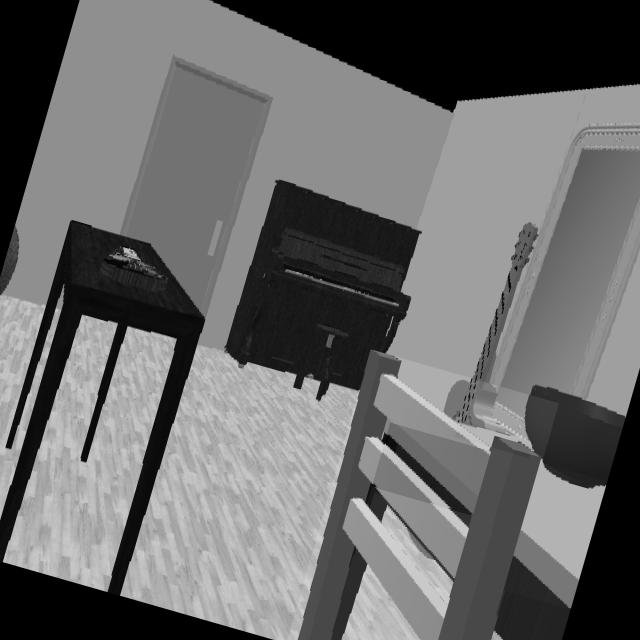chair: (298, 351, 541, 640)
table: (0, 220, 205, 595), (513, 462, 605, 609), (385, 423, 475, 514), (458, 425, 530, 450)
